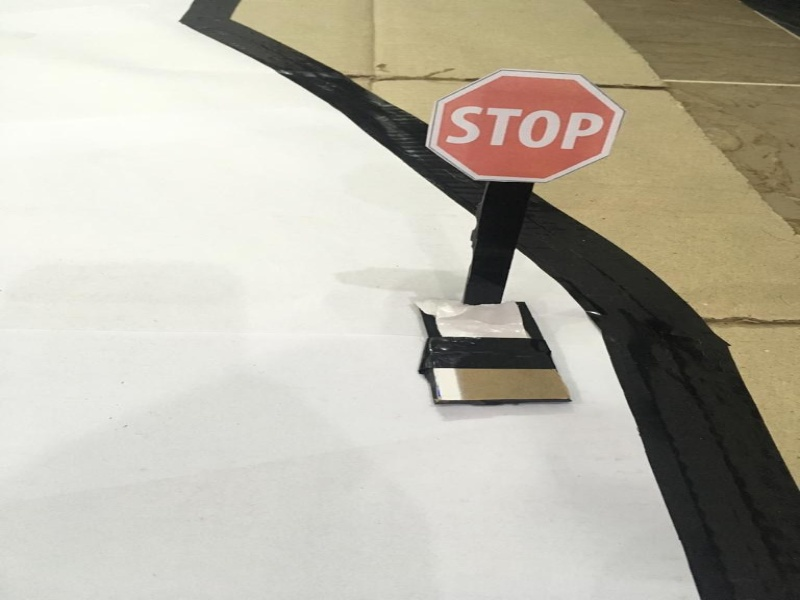Stop: (424, 61, 625, 185)
